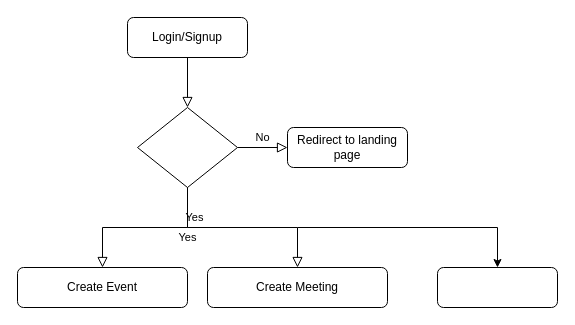
Image size: 575x325. Some labels were removed from this diagram. Each missing label, with the centre of its shape:
"Dashboard" belongs at (497,287).
"Logged In" belongs at (187,147).
